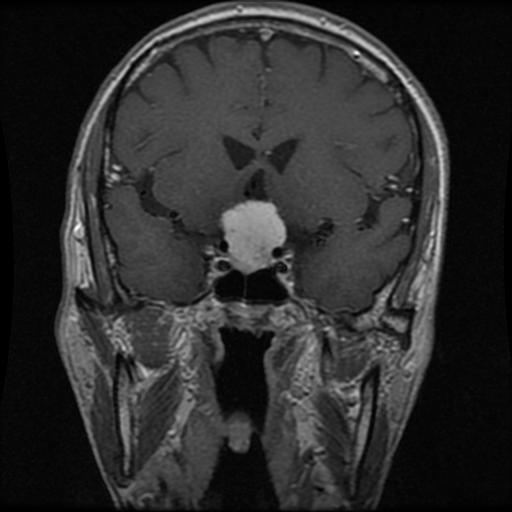Menigiomia_tumour: (219, 199, 284, 271)
